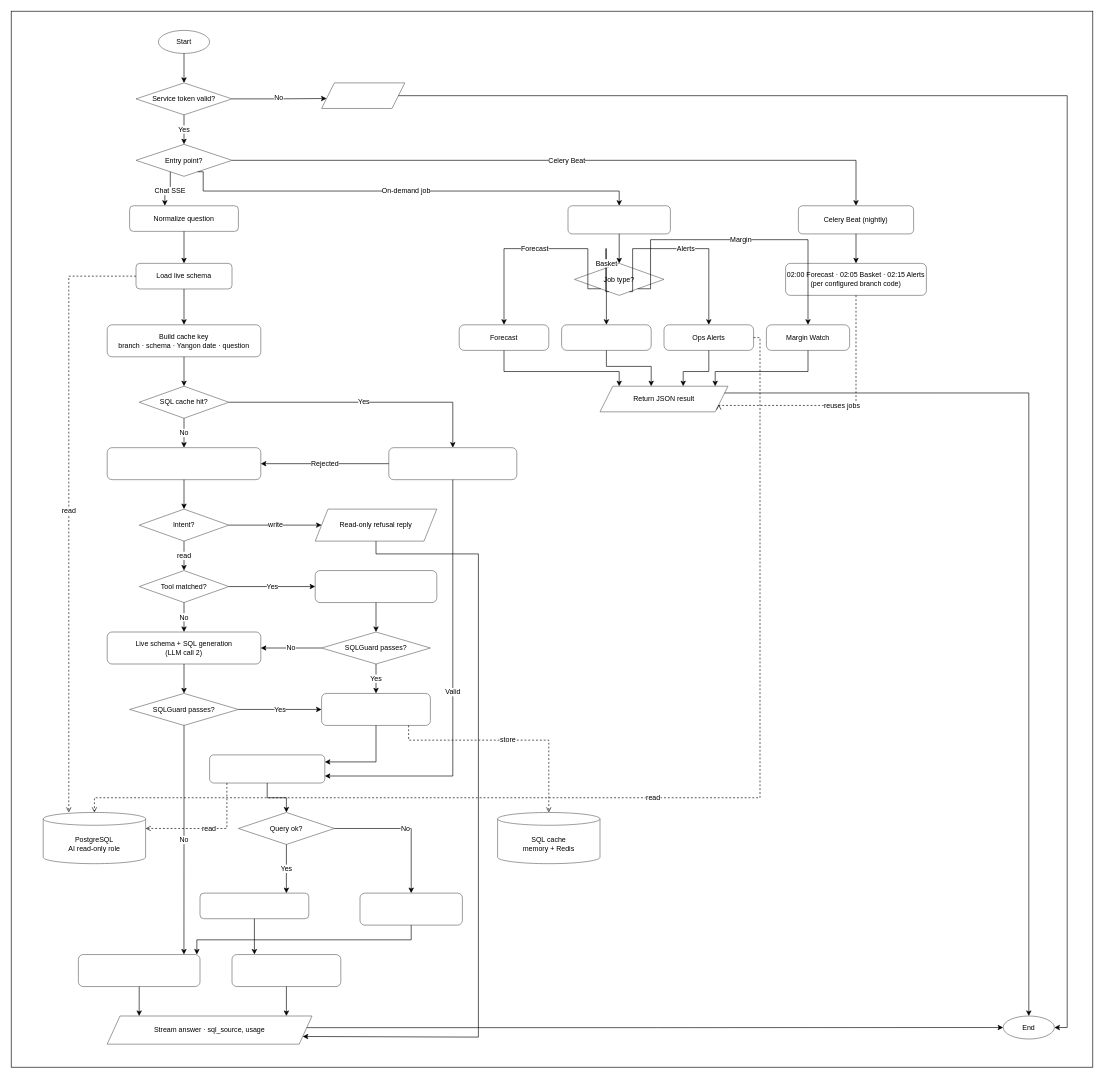
This 1104x1078 diagram has some shape labels left out. The centre of each missing label's shape, as x and y in pixels:
Analytics Jobs: the point at 618,219
Auth error: the point at 363,95
Cap rows at 50: the point at 254,905
Drop cached entry: the point at 410,908
Execute read-only SQL: the point at 267,768
Explain failure (LLM): the point at 139,970
Intent check + tool select (LLM call 1): the point at 184,463
Market Basket: the point at 606,337
Narrate answer (LLM): the point at 286,970
Re-validate cached SQL: the point at 452,463
Render tool SQL template: the point at 376,586
Store SQL in cache: the point at 375,709
